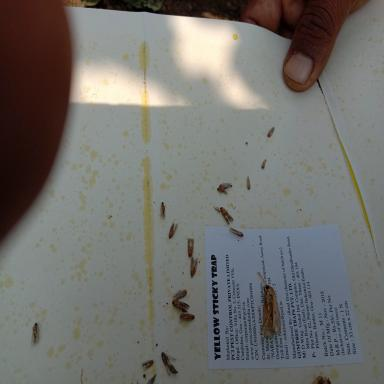abw: (260, 284, 281, 342)
pbw: (162, 352, 176, 376), (220, 206, 234, 224), (172, 300, 190, 313), (168, 219, 179, 239), (141, 355, 154, 370), (172, 289, 187, 301), (31, 323, 38, 347), (229, 227, 244, 237), (191, 256, 198, 277), (187, 238, 194, 257), (217, 187, 230, 195), (160, 202, 166, 219), (178, 314, 195, 320), (218, 182, 232, 189), (267, 127, 275, 137), (247, 176, 250, 190)
